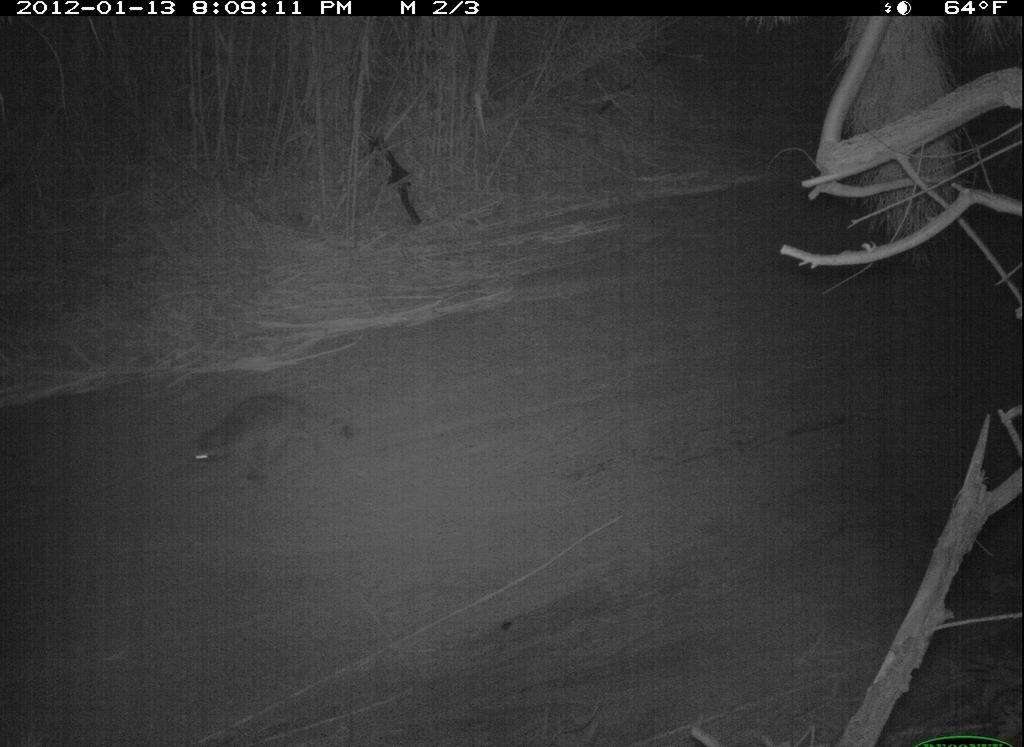raccoon: (186, 392, 365, 491)
